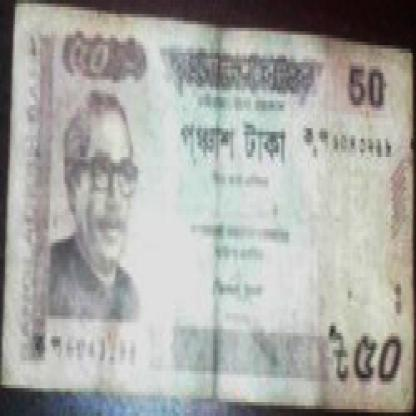Fifty taka: (353, 326, 409, 412), (60, 28, 118, 97)
